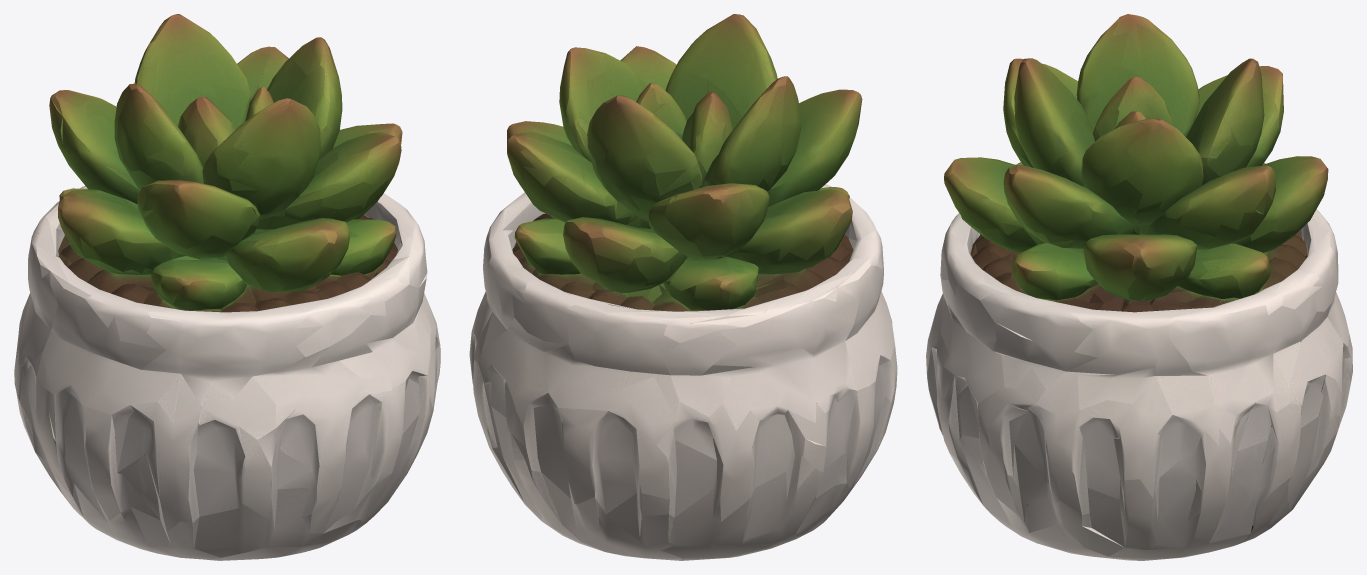
File: plant_small.glb
3 renders of one model, left to right at view 1: azimuth 30°, elevation 25°; view 2: azimuth 150°, elevation 25°; view 3: azimuth 270°, elevation 25°, orthographic.
Visible parts, largest first — view 1: mesh_node; view 2: mesh_node; view 3: mesh_node.
Part boxes in pixels (<box>): mesh_node: <box>14,14,440,560</box>; mesh_node: <box>469,14,897,560</box>; mesh_node: <box>926,14,1352,560</box>.
Size of the model in its own units: 0.0699 by 0.0805 by 0.07.
1 material, 1 textured.
